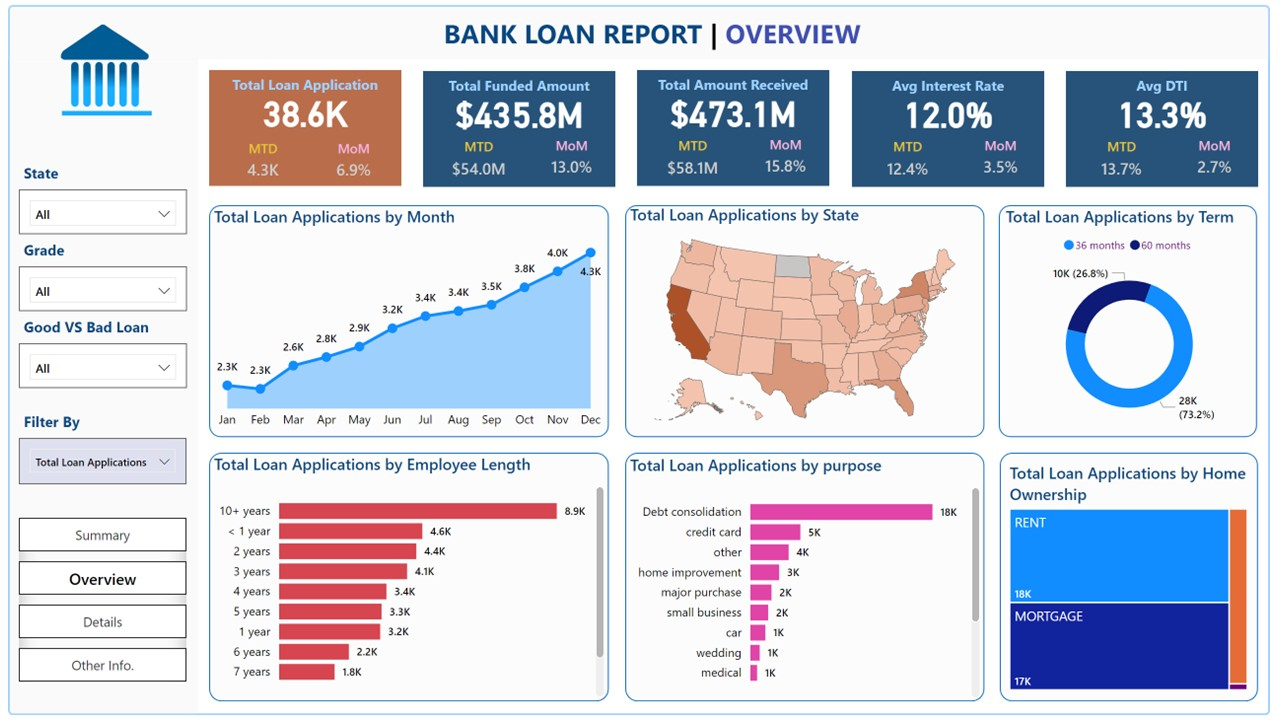

What the dashboard file says about the page in this screenshot:
{"tool":"powerbi","page":{"name":"Overview","canvas":[1280,720],"ordinal":1},"visuals":[{"type":"shape","box":[0,0,1280,720.2],"z":0},{"type":"shape","box":[638.4,65.8,195,117.5],"z":0,"group":"g2"},{"type":"shape","box":[203.8,66.2,195,117.5],"z":0,"group":"g1"},{"type":"shape","box":[420.5,67,195,117.5],"z":0,"group":"g3"},{"type":"shape","box":[856.2,67,195,117.5],"z":0,"group":"g4"},{"type":"shape","box":[1072.8,67,195,117.5],"z":0,"group":"g5"},{"type":"shape","box":[1.2,55.3,191.8,664.7],"z":1000},{"type":"card","fields":{"Values":["bank_loan_data.Total Amount Received"]},"box":[638.4,83.3,195,47.5],"z":1000,"group":"g2"},{"type":"card","fields":{"Values":["bank_loan_data.Total Loan Applications"]},"box":[203.8,83.7,195,47.5],"z":1000,"group":"g1"},{"type":"card","fields":{"Values":["bank_loan_data.Total Funded Amount"]},"box":[420.5,84.5,195,47.5],"z":1000,"group":"g3"},{"type":"card","fields":{"Values":["bank_loan_data.Avg Interest Rate"]},"box":[856.2,84.5,195,47.5],"z":1000,"group":"g4"},{"type":"card","fields":{"Values":["bank_loan_data.Avg DTI"]},"box":[1072.8,84.5,195,47.5],"z":1000,"group":"g5"},{"type":"textbox","box":[638.4,65.8,195,35],"z":2000,"group":"g2"},{"type":"textbox","box":[203.8,66.2,195,35],"z":2000,"group":"g1"},{"type":"textbox","box":[420.5,67,195,35],"z":2000,"group":"g3"},{"type":"textbox","box":[856.2,67,195,35],"z":2000,"group":"g4"},{"type":"textbox","box":[1072.8,67,195,35],"z":2000,"group":"g5"},{"type":"shape","box":[203.9,202.7,405.4,235.3],"z":2000},{"type":"shape","box":[0,0,1280,55.5],"z":3000},{"type":"card","title":"MTD","fields":{"Values":["bank_loan_data.MTD Total Amount Received"]},"box":[660.6,133,68.8,50],"z":3000,"group":"g2"},{"type":"card","title":"MTD","fields":{"Values":["bank_loan_data.MTD Funded Amount"]},"box":[442.7,134.2,68.8,50],"z":3000,"group":"g3"},{"type":"card","title":"MTD","fields":{"Values":["bank_loan_data.MTD Avg Interest Rate"]},"box":[878.4,134.2,68.8,50],"z":3000,"group":"g4"},{"type":"card","title":"MTD","fields":{"Values":["bank_loan_data.MTD Avg DIT"]},"box":[1095,134.2,68.8,50],"z":3000,"group":"g5"},{"type":"card","title":"MTD","fields":{"Values":["bank_loan_data.MTD Loan Applications"]},"box":[227.6,136.2,61.2,47.5],"z":3000,"group":"g1"},{"type":"textbox","box":[436.7,4.8,447.6,45.8],"z":4000},{"type":"card","title":"MoM","fields":{"Values":["bank_loan_data.MoM Total Amount Received"]},"box":[758.1,131.7,61.2,47.5],"z":4000,"group":"g2"},{"type":"card","title":"MoM","fields":{"Values":["bank_loan_data.MoM Total Funded Amount"]},"box":[540.2,132.9,61.2,47.5],"z":4000,"group":"g3"},{"type":"card","title":"MoM","fields":{"Values":["bank_loan_data.MoM Avg Interest Rate"]},"box":[975.9,132.9,61.2,47.5],"z":4000,"group":"g4"},{"type":"card","title":"MoM","fields":{"Values":["bank_loan_data.MoM Avg DTI"]},"box":[1192.5,132.9,61.2,47.5],"z":4000,"group":"g5"},{"type":"card","title":"MoM","fields":{"Values":["bank_loan_data.MoM Loan Application"]},"box":[320,136.2,61.2,47.5],"z":4000,"group":"g1"},{"type":"areaChart","fields":{"Y":["bank_loan_data.Total Loan Applications"],"Category":["Date Table.Month"]},"box":[203.9,202.7,405.4,235.3],"z":5000},{"type":"slicer","fields":{"Values":["Select Measure.Select Measure"]},"box":[10.9,439.1,170.1,47.1],"z":6000},{"type":"shape","box":[626.1,202.7,364.3,235.3],"z":7000},{"type":"shapeMap","fields":{"Value":["bank_loan_data.Total Loan Applications"],"Category":["bank_loan_data.address_state"]},"box":[626.1,201.5,364.3,235.3],"z":8000},{"type":"shape","box":[1005,202.7,261.8,235.3],"z":9000},{"type":"shape","box":[203.9,453.6,405.4,252.1],"z":10000},{"type":"donutChart","fields":{"Y":["bank_loan_data.Total Loan Applications"],"Category":["bank_loan_data.term"]},"box":[1007.4,202.7,260.6,234],"z":11000},{"type":"barChart","fields":{"Y":["bank_loan_data.Total Loan Applications"],"Category":["bank_loan_data.emp_length"]},"box":[203.9,453.6,405.4,252.1],"z":12000},{"type":"shape","box":[626.1,453.6,364.3,252.1],"z":13000},{"type":"barChart","fields":{"Y":["bank_loan_data.Total Loan Applications"],"Category":["bank_loan_data.purpose"]},"box":[626.1,454.8,364.3,252.1],"z":14000},{"type":"shape","box":[1006.2,453.6,261.8,252.1],"z":15000},{"type":"treemap","fields":{"Values":["bank_loan_data.Total Loan Applications"],"Group":["bank_loan_data.home_ownership"]},"box":[1011,463.3,250.9,236.5],"z":16000},{"type":"image","box":[30.2,2.4,131.5,127.9],"z":17000},{"type":"group","id":"g1","title":"Group 1","box":[203.8,66.2,195,117.5],"z":18000},{"type":"group","id":"g2","title":"Group 1","box":[638.4,65.8,196.1,118.9],"z":19000},{"type":"group","id":"g3","title":"Group 1","box":[420.5,67,196.1,118.9],"z":20000},{"type":"slicer","fields":{"Values":["bank_loan_data.grade"]},"box":[11.1,265.1,170.4,45.7],"z":21000},{"type":"textbox","box":[11.1,155.2,69.1,32.1],"z":22000},{"type":"slicer","fields":{"Values":["bank_loan_data.address_state"]},"box":[11.1,187.3,170.4,45.7],"z":23000},{"type":"textbox","box":[11.1,233,69.1,32.1],"z":24000},{"type":"slicer","fields":{"Values":["bank_loan_data.Good VS Bad Loan"]},"box":[11.1,342.9,170.4,45.7],"z":25000},{"type":"textbox","box":[10.9,310.5,154.4,32.6],"z":26000},{"type":"pageNavigator","box":[10.9,520,170.1,166.5],"z":27000},{"type":"group","id":"g4","title":"Group 1","box":[856.2,67,194.8,118.9],"z":28000},{"type":"group","id":"g5","title":"Group 1","box":[1072.8,67,194.8,118.9],"z":29000},{"type":"textbox","box":[10.9,406.6,154.4,32.6],"z":30000}]}

Visuals, with their boxes in screenshot pixels (x1, y1, x2, y2), scaled from the page's 1280x720 canvas onto the 1280x720 screenshot:
shape: box(0, 0, 1279, 719)
shape: box(638, 66, 833, 183)
shape: box(204, 66, 399, 184)
shape: box(420, 67, 616, 184)
shape: box(856, 67, 1051, 184)
shape: box(1073, 67, 1268, 184)
shape: box(1, 55, 193, 719)
card - bank_loan_data.Total Amount Received: box(638, 83, 833, 131)
card - bank_loan_data.Total Loan Applications: box(204, 84, 399, 131)
card - bank_loan_data.Total Funded Amount: box(420, 84, 616, 132)
card - bank_loan_data.Avg Interest Rate: box(856, 84, 1051, 132)
card - bank_loan_data.Avg DTI: box(1073, 84, 1268, 132)
textbox: box(638, 66, 833, 101)
textbox: box(204, 66, 399, 101)
textbox: box(420, 67, 616, 102)
textbox: box(856, 67, 1051, 102)
textbox: box(1073, 67, 1268, 102)
shape: box(204, 203, 609, 438)
shape: box(0, 0, 1279, 56)
"MTD" card: box(661, 133, 729, 183)
"MTD" card: box(443, 134, 512, 184)
"MTD" card: box(878, 134, 947, 184)
"MTD" card: box(1095, 134, 1164, 184)
"MTD" card: box(228, 136, 289, 184)
textbox: box(437, 5, 884, 51)
"MoM" card: box(758, 132, 819, 179)
"MoM" card: box(540, 133, 601, 180)
"MoM" card: box(976, 133, 1037, 180)
"MoM" card: box(1192, 133, 1254, 180)
"MoM" card: box(320, 136, 381, 184)
areaChart - bank_loan_data.Total Loan Applications x Date Table.Month: box(204, 203, 609, 438)
slicer - Select Measure.Select Measure: box(11, 439, 181, 486)
shape: box(626, 203, 990, 438)
shapeMap - bank_loan_data.Total Loan Applications x bank_loan_data.address_state: box(626, 202, 990, 437)
shape: box(1005, 203, 1267, 438)
shape: box(204, 454, 609, 706)
donutChart - bank_loan_data.Total Loan Applications x bank_loan_data.term: box(1007, 203, 1268, 437)
barChart - bank_loan_data.Total Loan Applications x bank_loan_data.emp_length: box(204, 454, 609, 706)
shape: box(626, 454, 990, 706)
barChart - bank_loan_data.Total Loan Applications x bank_loan_data.purpose: box(626, 455, 990, 707)
shape: box(1006, 454, 1268, 706)
treemap - bank_loan_data.Total Loan Applications x bank_loan_data.home_ownership: box(1011, 463, 1262, 700)
image: box(30, 2, 162, 130)
"Group 1" group: box(204, 66, 399, 184)
"Group 1" group: box(638, 66, 834, 185)
"Group 1" group: box(420, 67, 617, 186)
slicer - bank_loan_data.grade: box(11, 265, 182, 311)
textbox: box(11, 155, 80, 187)
slicer - bank_loan_data.address_state: box(11, 187, 182, 233)
textbox: box(11, 233, 80, 265)
slicer - bank_loan_data.Good VS Bad Loan: box(11, 343, 182, 389)
textbox: box(11, 310, 165, 343)
pageNavigator: box(11, 520, 181, 686)
"Group 1" group: box(856, 67, 1051, 186)
"Group 1" group: box(1073, 67, 1268, 186)
textbox: box(11, 407, 165, 439)
